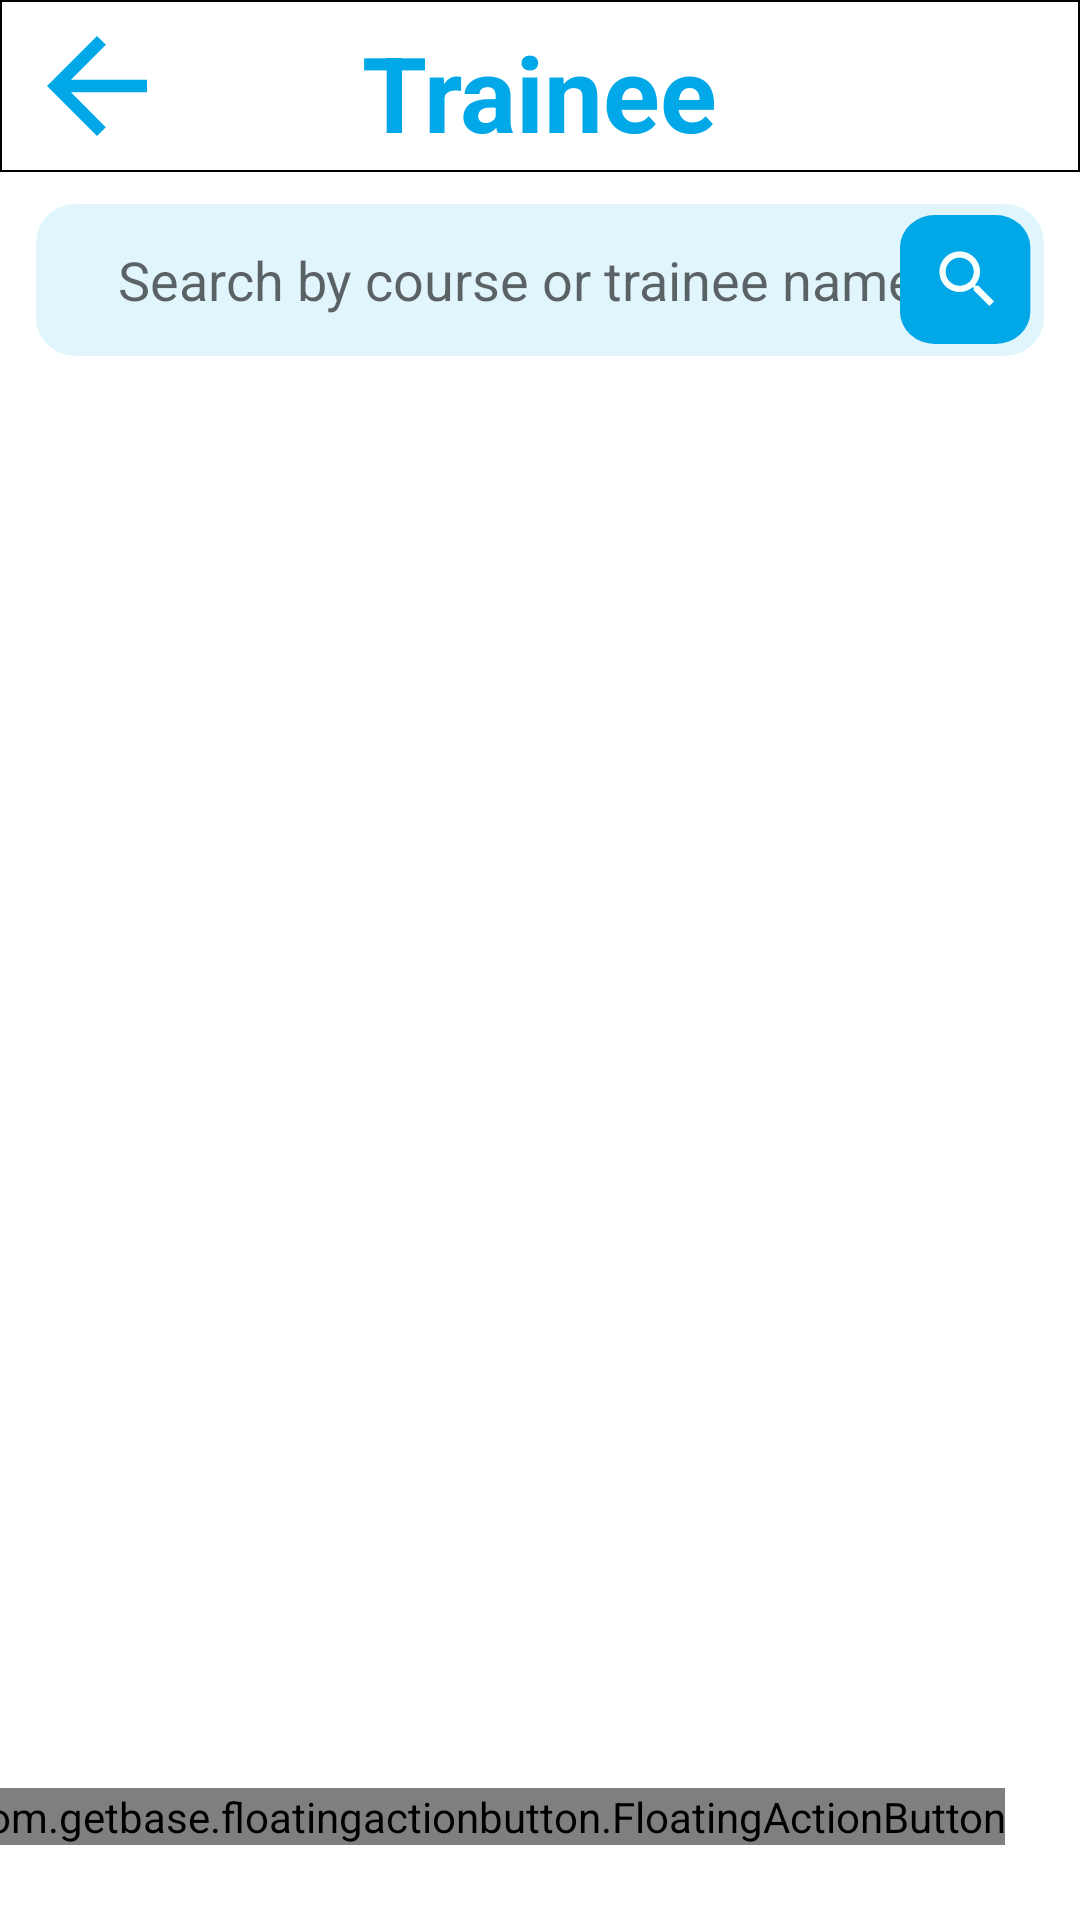

Where icons sit on this 1080px×1920px app screen, as bbox=[x1, y1, x2, y2]:
arrow back: bbox=[47, 36, 147, 136]
